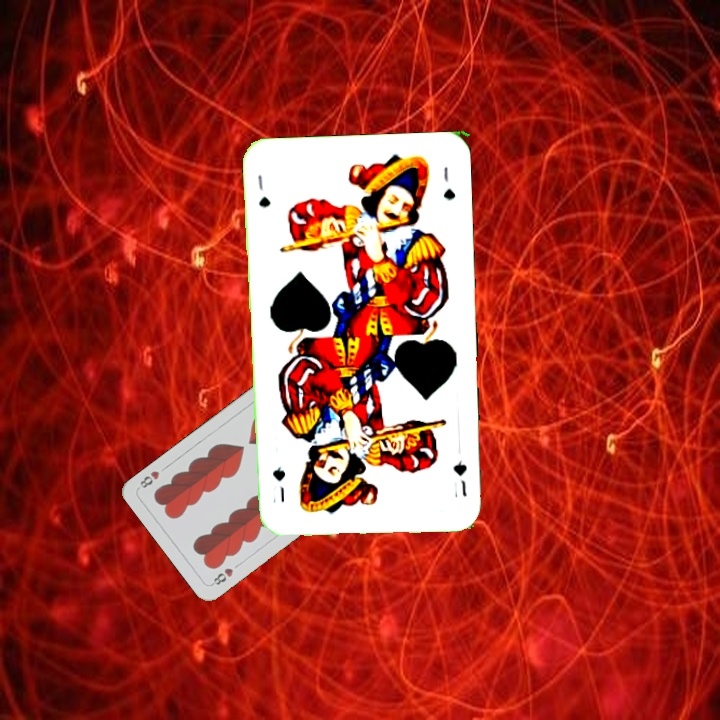GU: (448, 456, 470, 499), (254, 171, 273, 210)
H8: (208, 564, 236, 588)
